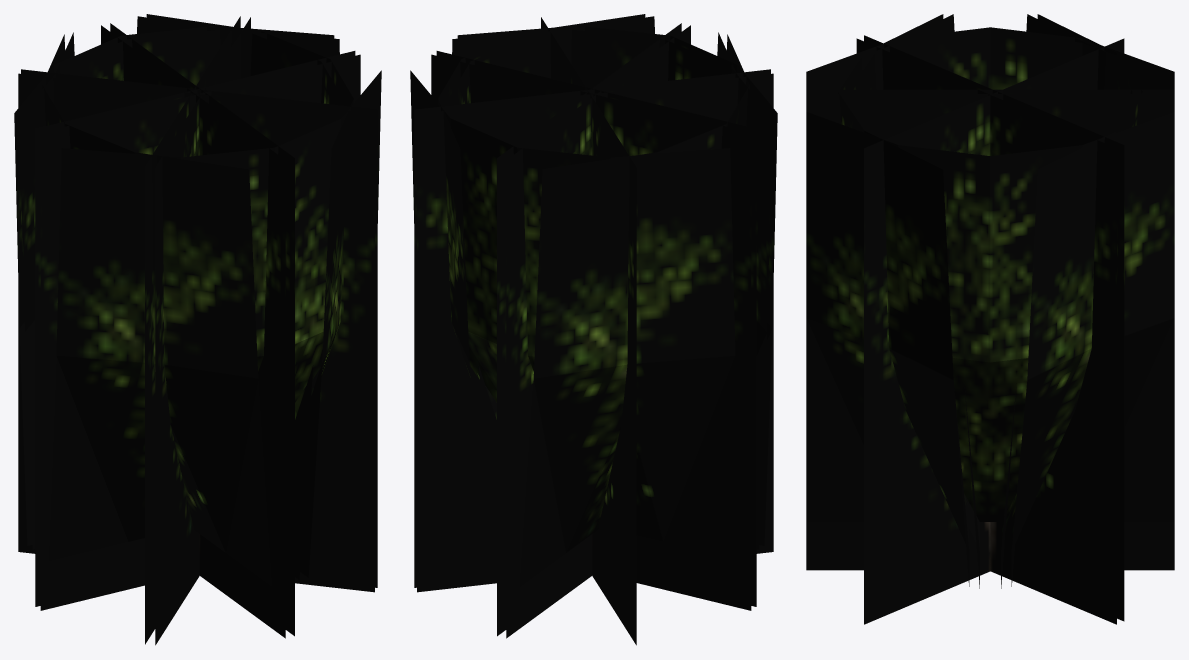
The model's file is bush01.gltf.
The picture shows the model from 3 angles, left to right: view 1: azimuth 30°, elevation 25°; view 2: azimuth 150°, elevation 25°; view 3: azimuth 270°, elevation 25°; orthographic projection.
Parts seen in each view (by area): view 1: bush1; view 2: bush1; view 3: bush1.
Part boxes in pixels (<box>): bush1: <box>14,14,381,645</box>; bush1: <box>410,14,777,645</box>; bush1: <box>806,14,1174,624</box>.
Bounding box in the file's own units: 0.7 × 1 × 0.7.
1 material, 1 textured.
